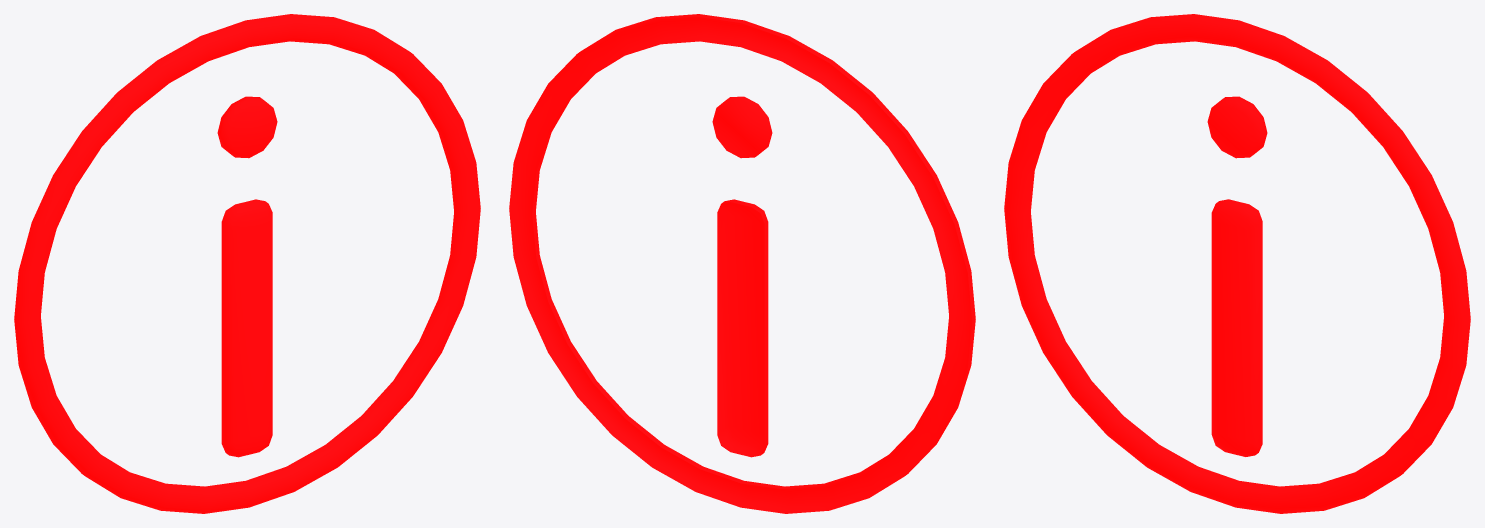
File: Information.glb
The picture shows the model from 3 angles, left to right: view 1: azimuth 30°, elevation 25°; view 2: azimuth 150°, elevation 25°; view 3: azimuth 330°, elevation 25°; orthographic projection.
Visible parts, largest first — view 1: Circle; view 2: Circle; view 3: Circle.
Part boxes in pixels (box(x1,y1,x2,y2)): Circle: box(14, 14, 480, 513); Circle: box(509, 14, 975, 513); Circle: box(1004, 14, 1470, 513).
Bounding box in the file's own units: 0.8 × 0.8 × 0.02.
